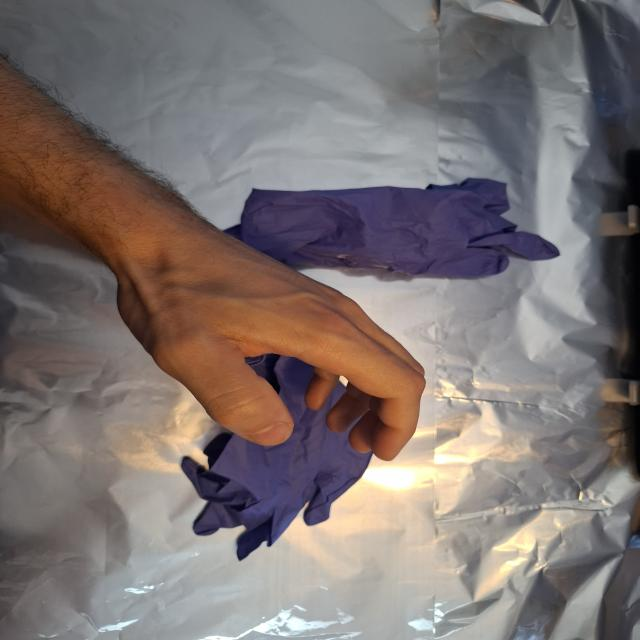glove_off: (114, 229, 429, 463)
